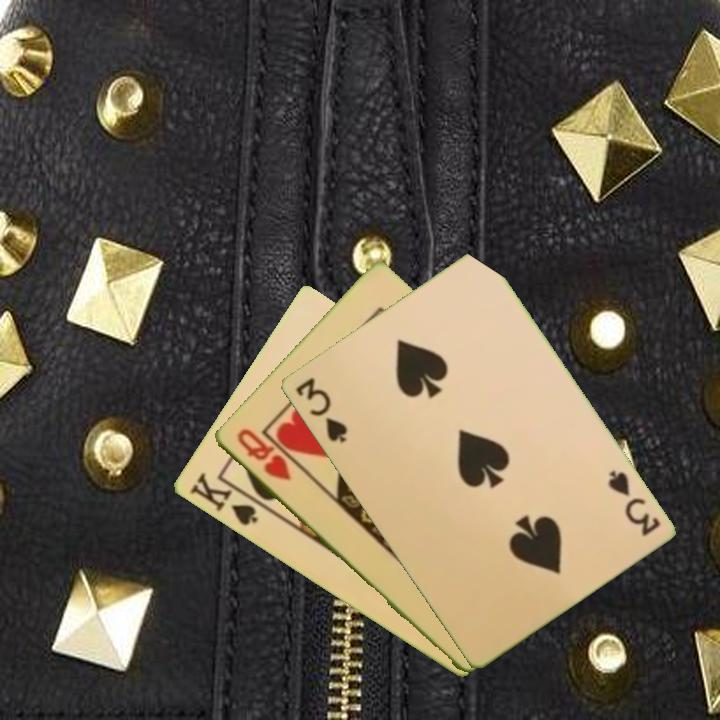3s: (604, 466, 663, 539), (291, 374, 350, 446)
Ks: (185, 469, 267, 529)
Qh: (232, 424, 294, 484)
